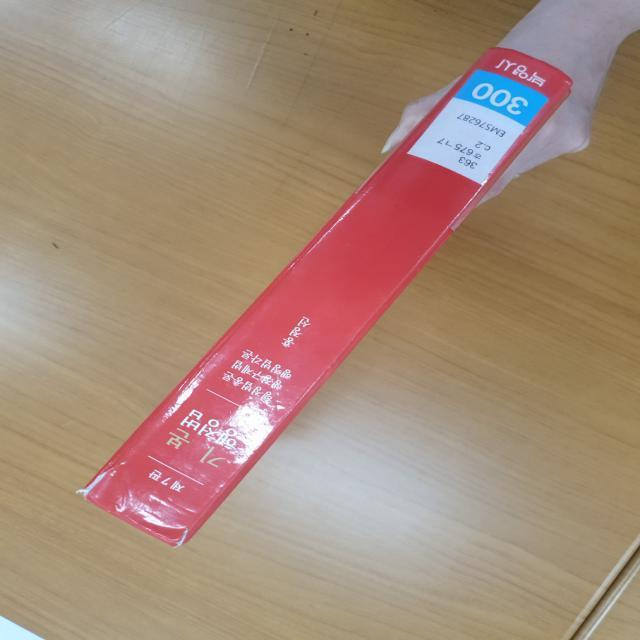Ripped: (73, 460, 128, 503), (164, 526, 196, 555)
